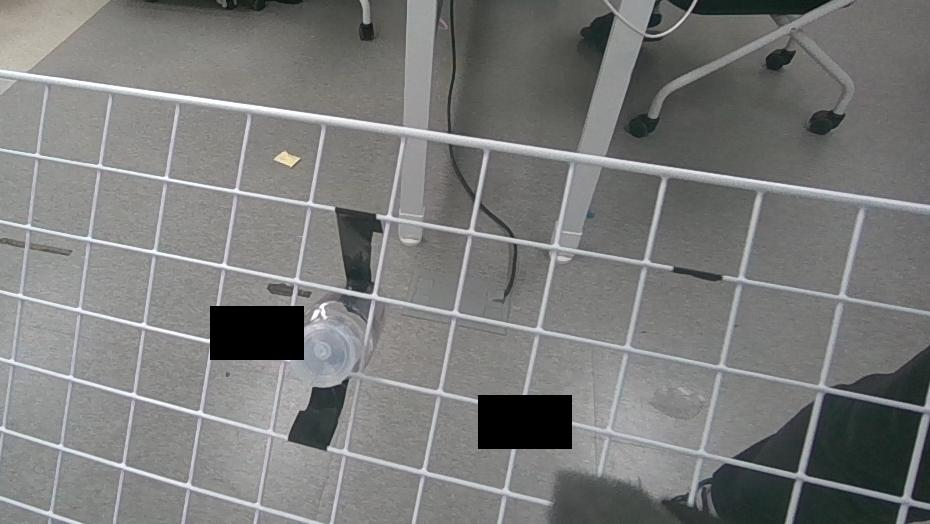Cap: (286, 326, 353, 386)
